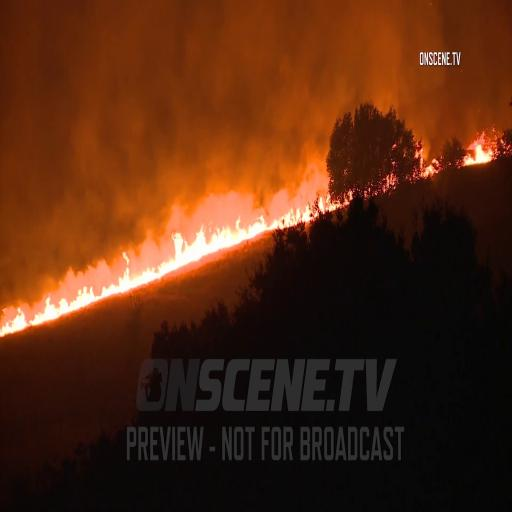fire: (166, 220, 244, 256), (40, 286, 94, 312)
